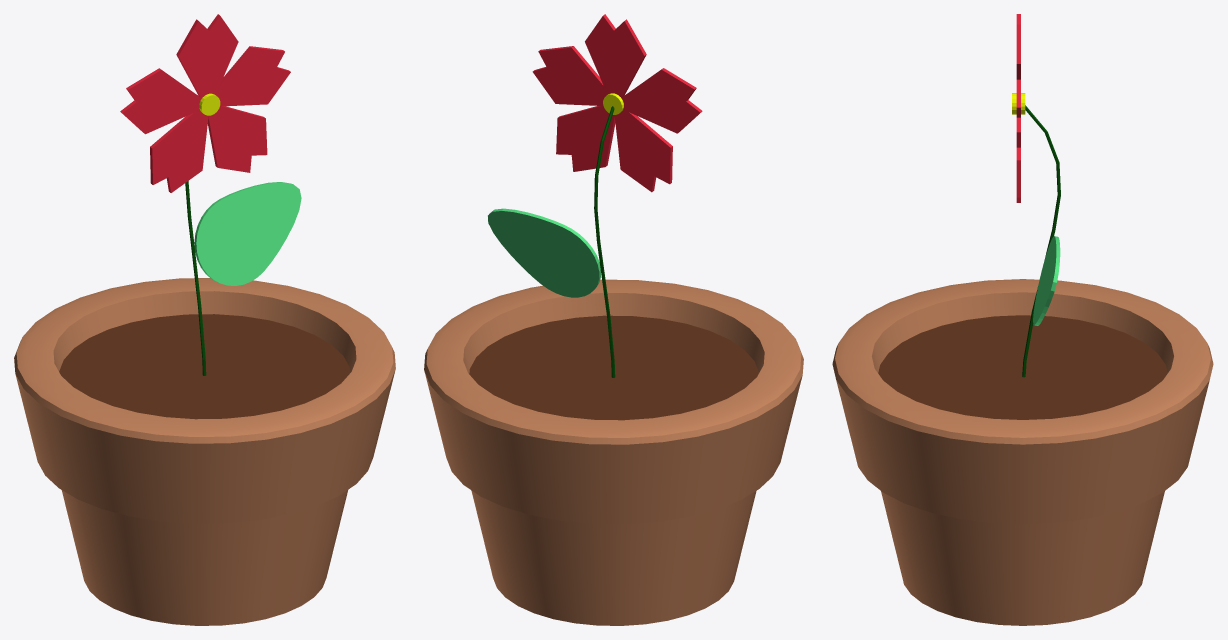
File: Pot Bunga.fbx
3 renders of one model, left to right at view 1: azimuth 30°, elevation 25°; view 2: azimuth 150°, elevation 25°; view 3: azimuth 270°, elevation 25°, orthographic.
Parts seen in each view (by area): view 1: Pot Bunga; view 2: Pot Bunga; view 3: Pot Bunga.
Boxes of the visible parts, x1,y1,x2,y2 form: Pot Bunga: [14, 14, 395, 625]; Pot Bunga: [424, 14, 803, 625]; Pot Bunga: [832, 14, 1213, 625].
Bounding box in the file's own units: 68.92 × 111 × 68.92.
